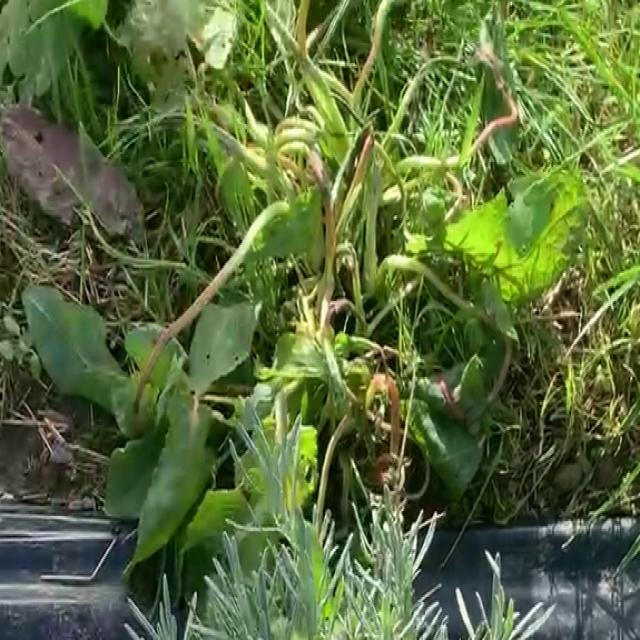organic waste: (2, 0, 593, 640)
